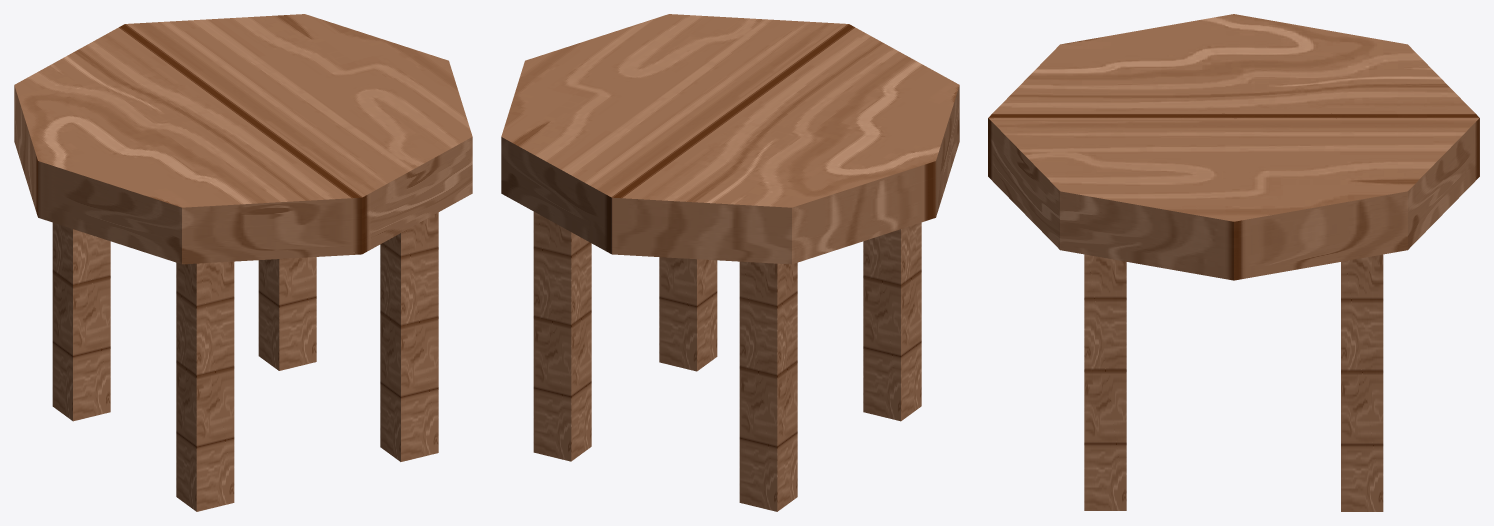
File: ChairWood.fbx
The picture shows the model from 3 angles, left to right: view 1: azimuth 30°, elevation 25°; view 2: azimuth 150°, elevation 25°; view 3: azimuth 270°, elevation 25°; orthographic projection. The views are drawn at different scales.
Parts seen in each view (by area): view 1: Cylinder, CubeWood.001, CubeWood, CubeWood.002, CubeWood.003; view 2: Cylinder, CubeWood.002, CubeWood.003, CubeWood.001, CubeWood; view 3: Cylinder, CubeWood.003, CubeWood.
Part boxes in pixels (bbox=[...]): Cylinder: bbox=[14, 14, 472, 264]; CubeWood.001: bbox=[176, 261, 234, 511]; CubeWood: bbox=[380, 212, 438, 461]; CubeWood.002: bbox=[52, 222, 110, 421]; CubeWood.003: bbox=[258, 257, 316, 370]; Cylinder: bbox=[501, 14, 959, 264]; CubeWood.002: bbox=[739, 261, 797, 511]; CubeWood.003: bbox=[533, 212, 591, 461]; CubeWood.001: bbox=[863, 222, 921, 421]; CubeWood: bbox=[659, 257, 717, 371]; Cylinder: bbox=[988, 14, 1479, 280]; CubeWood.003: bbox=[1341, 254, 1383, 511]; CubeWood: bbox=[1084, 254, 1126, 510].
Size of the model in its own units: 327 by 327 by 243.
